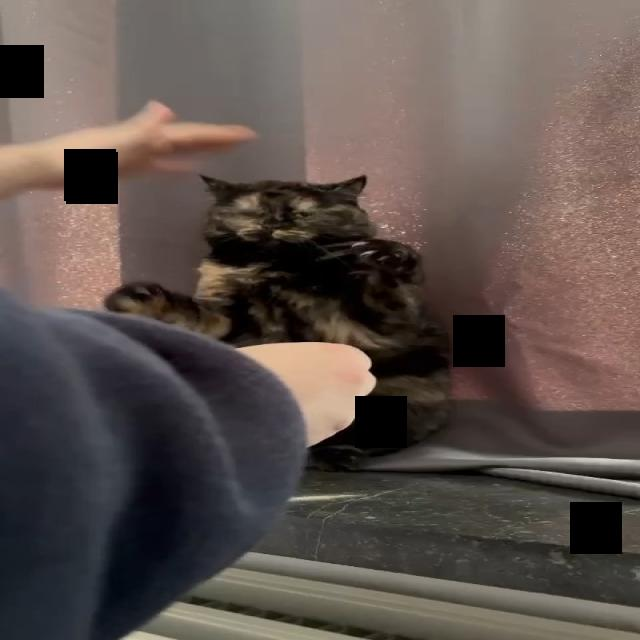authorized: (103, 172, 453, 471)
